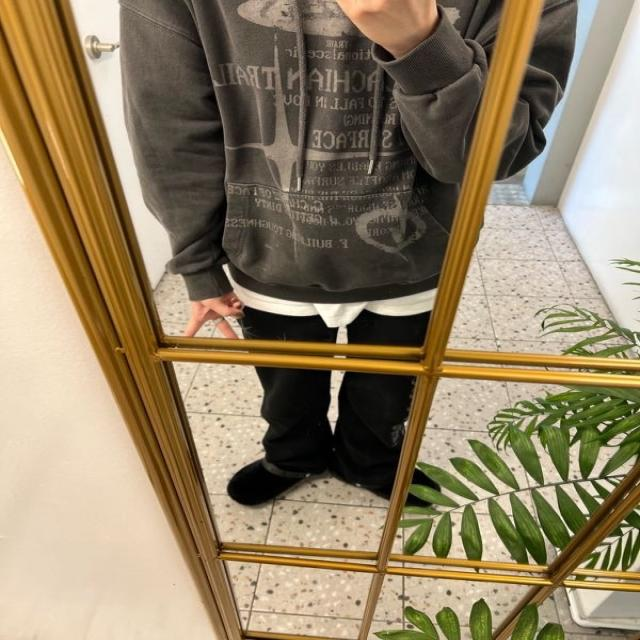denimpants: (245, 297, 436, 494)
hoodies: (121, 2, 498, 310)
